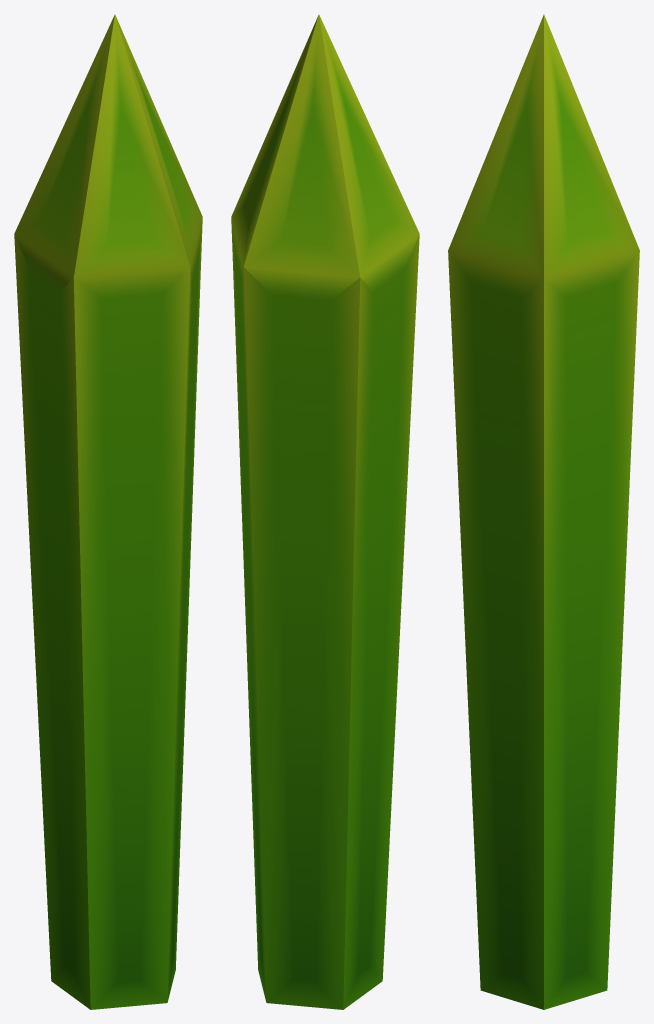
File: Prop_Crystals_Green.fbx
3 views of the same model, side by side, from view 1: azimuth 30°, elevation 25°; view 2: azimuth 150°, elevation 25°; view 3: azimuth 270°, elevation 25° (orthographic).
Parts seen in each view (by area): view 1: Prop_Crystals_Green; view 2: Prop_Crystals_Green; view 3: Prop_Crystals_Green.
Part boxes in pixels (<box>): Prop_Crystals_Green: <box>14,14,202,1009</box>; Prop_Crystals_Green: <box>231,14,419,1009</box>; Prop_Crystals_Green: <box>448,14,639,1009</box>.
Bounding box in the file's own units: 20.56 × 120 × 21.62.
1 material, 1 textured.
